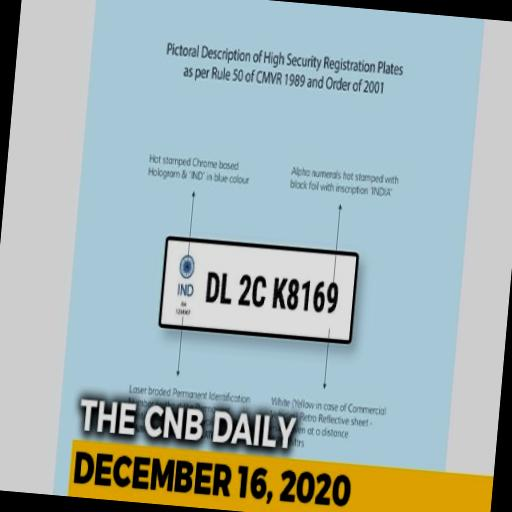number plate: (156, 236, 361, 348)
